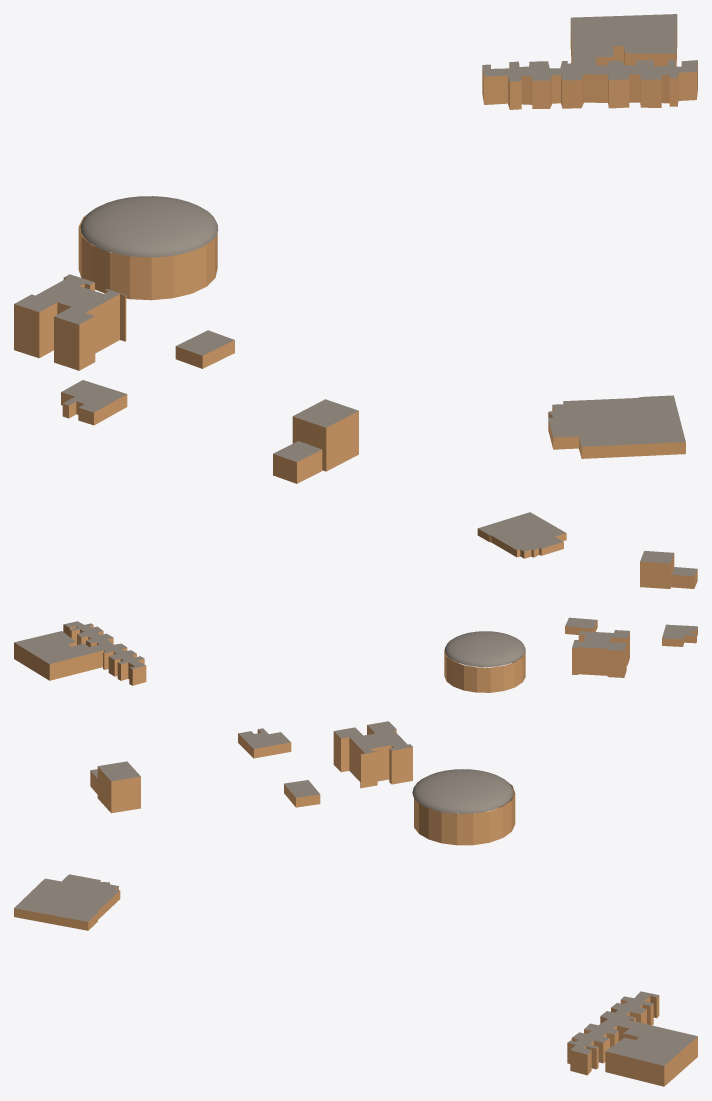
File: otherBuildings.glb
The picture shows the model from 3 angles, top to bottom: view 1: azimuth 30°, elevation 25°; view 2: azimuth 150°, elevation 25°; view 3: azimuth 270°, elevation 25°; orthographic projection. The views are drawn at different scales.
Parts seen in each view (by area): view 1: map_26.osm_buildings; view 2: map_26.osm_buildings; view 3: map_26.osm_buildings.
Part boxes in pixels (x1,y1,x2,y2): map_26.osm_buildings: (14,14,697,483); map_26.osm_buildings: (14,512,697,692); map_26.osm_buildings: (14,721,697,1086).
Size of the model in its own units: 340 by 33.1 by 309.
